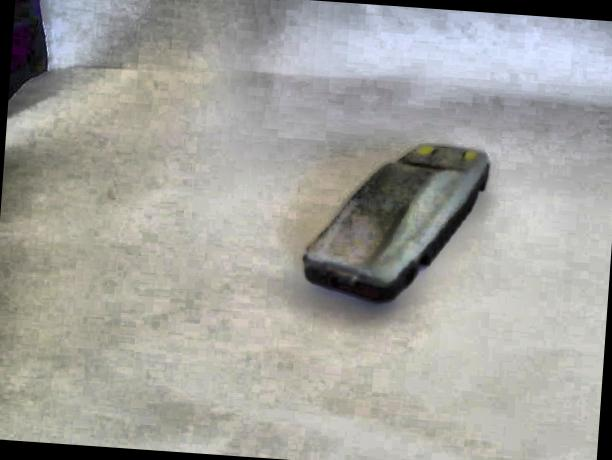normal_car: (292, 131, 492, 313)
